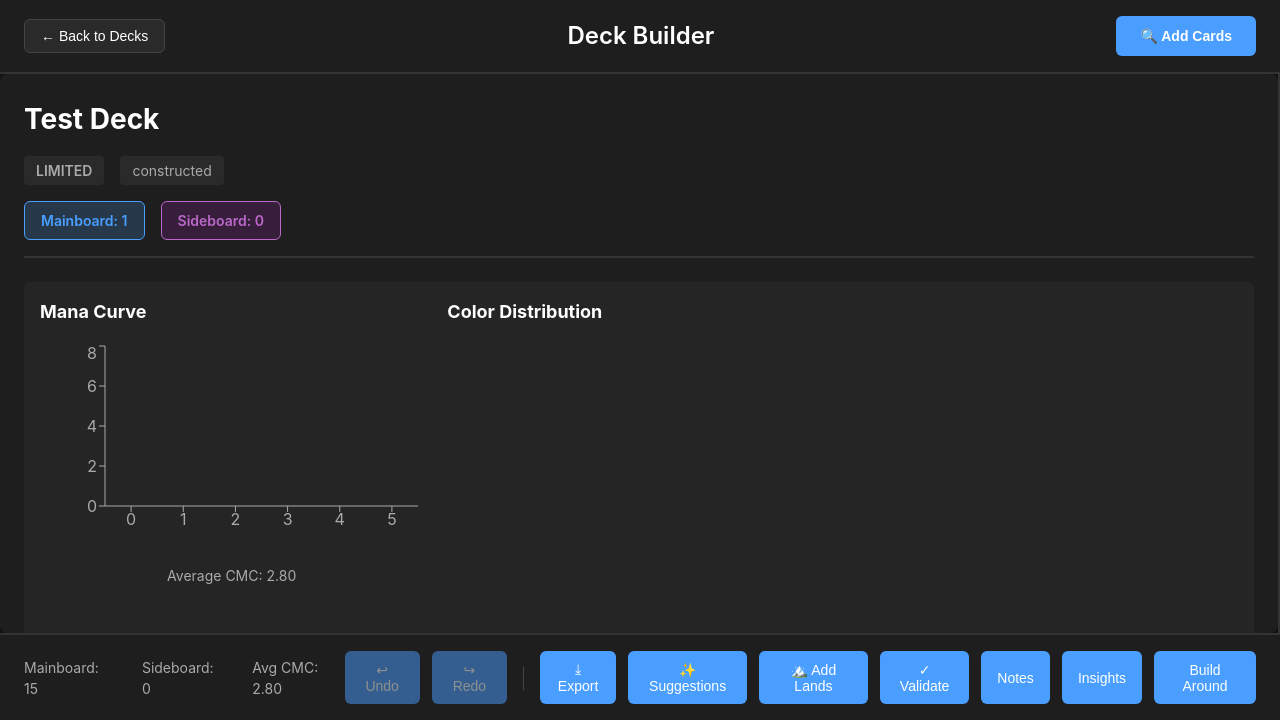
DeckBuilder Component - Export and Validate › Build Around Functionality › should close Build Around modal when close button is clicked
Expected: the heading "Test Deck" is shown, [24, 98, 159, 140]
// Open modal
What coordinates should you click on to do the following:
click the button "Build Around"
I would click on:
 (1205, 678)
Its box is [1154, 651, 1256, 704].
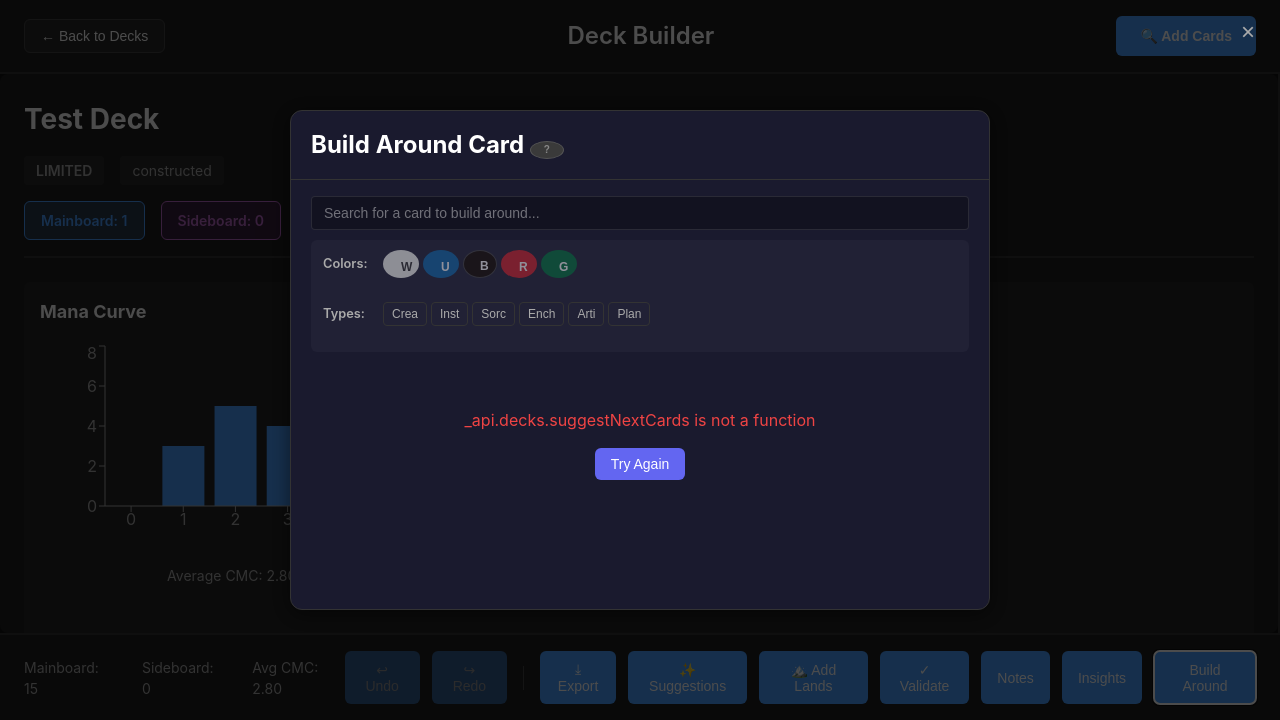
Result: the heading "Build Around Card ?" is shown at [311, 127, 564, 163]
// Close modal using close button (within the modal header)
What coordinates should you click on to do the following:
click the button with class "close-button"
I would click on:
 (1248, 32)
Its box is [1232, 16, 1264, 48].
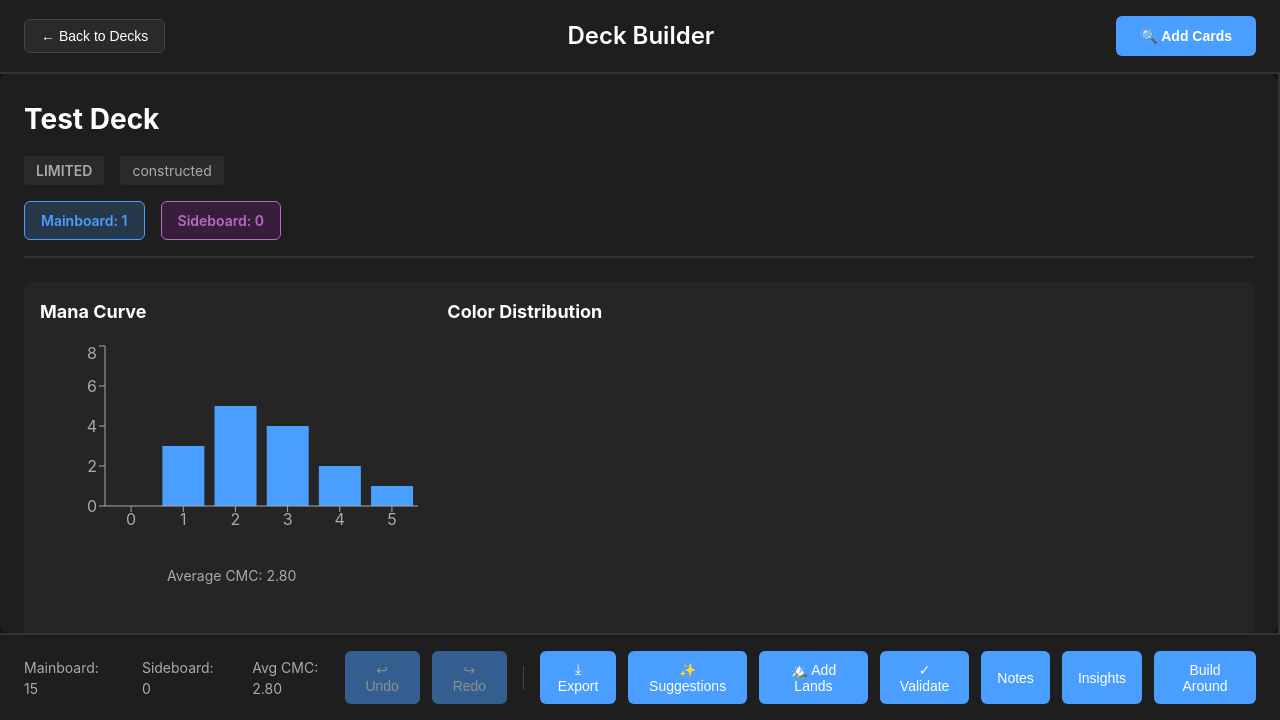
Result: the heading "Build Around Card" is gone
